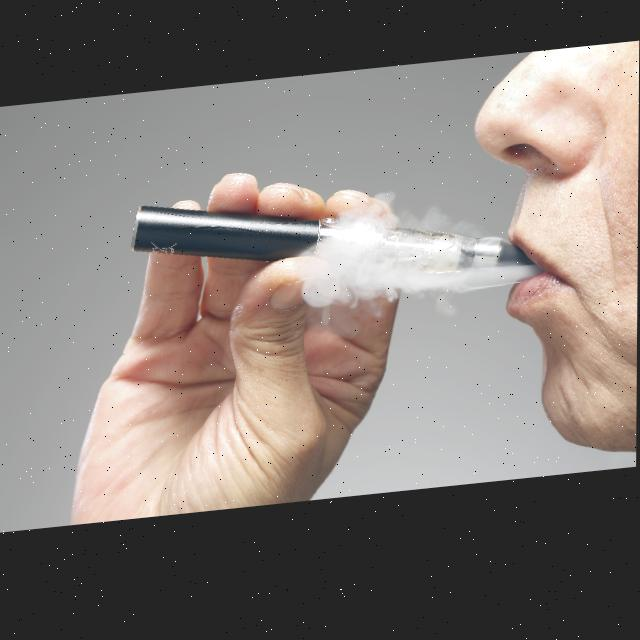vape: (132, 178, 525, 310)
